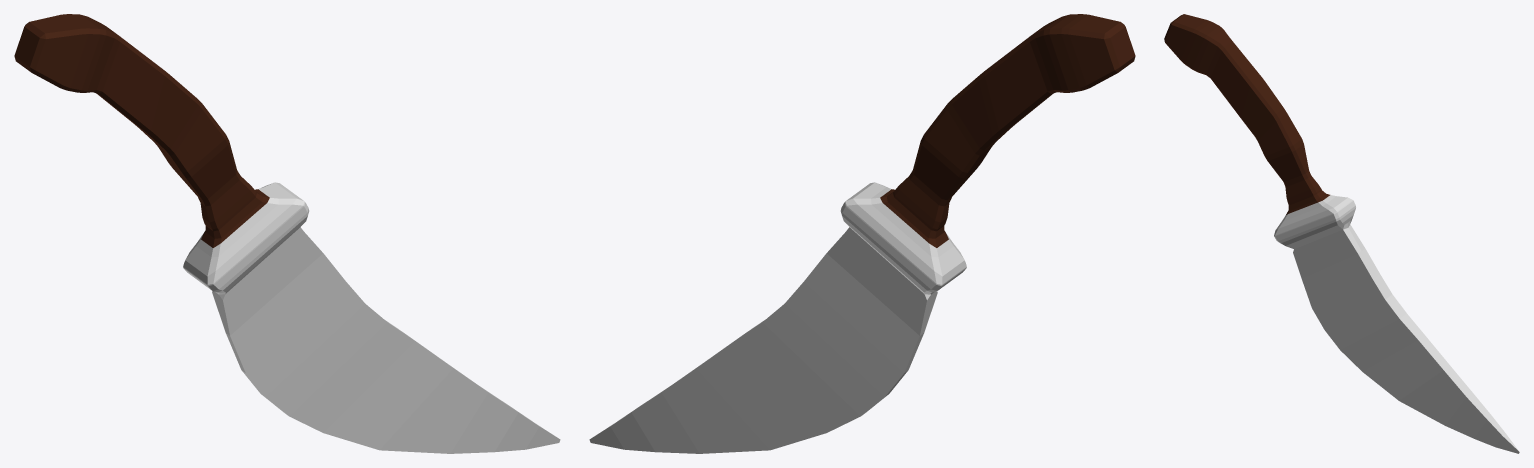
The model's file is knife.fbx.
3 renders of one model, left to right at view 1: azimuth 30°, elevation 25°; view 2: azimuth 150°, elevation 25°; view 3: azimuth 330°, elevation 25°, orthographic. The views are drawn at different scales.
Parts seen in each view (by area): view 1: Cylinder; view 2: Cylinder; view 3: Cylinder.
Boxes of the visible parts, x1=… form: Cylinder: x1=14, y1=14, x2=560, y2=453; Cylinder: x1=589, y1=14, x2=1135, y2=453; Cylinder: x1=1164, y1=14, x2=1519, y2=453.
Size of the model in its own units: 474 by 456 by 45.
